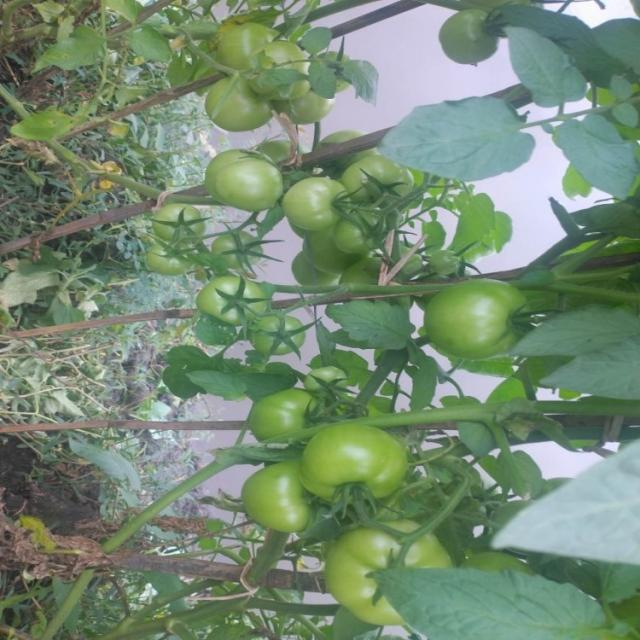tomato: (315, 515, 435, 622), (421, 273, 545, 370), (308, 425, 412, 506), (189, 143, 286, 228), (238, 464, 328, 535), (199, 75, 287, 145), (428, 15, 511, 87), (189, 222, 271, 289), (283, 167, 353, 233), (240, 307, 325, 361), (344, 150, 417, 210), (132, 225, 208, 282), (146, 193, 219, 243), (255, 391, 325, 443), (216, 17, 276, 72), (187, 271, 258, 317), (291, 251, 349, 305), (301, 359, 361, 403), (332, 222, 374, 250)
